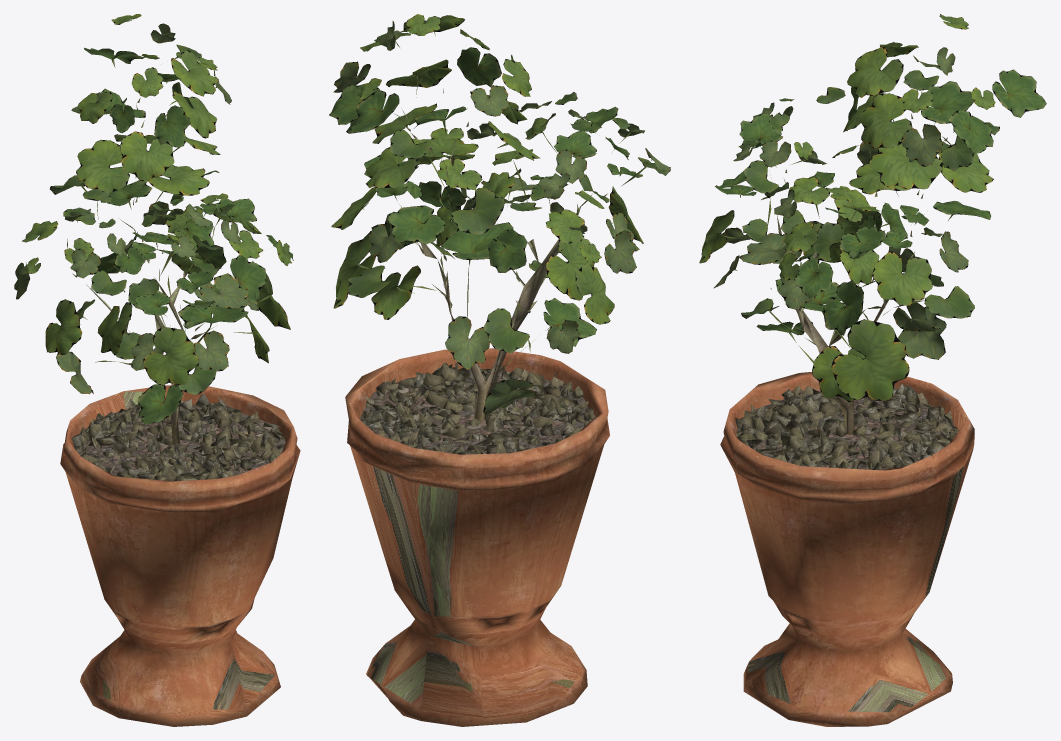
Rendered from potted_plant_01.glb.
3 renders of one model, left to right at view 1: azimuth 30°, elevation 25°; view 2: azimuth 150°, elevation 25°; view 3: azimuth 270°, elevation 25°, orthographic. The views are drawn at different scales.
Parts seen in each view (by area): view 1: potted_plant_01_stem, potted_plant_01_leaves; view 2: potted_plant_01_stem, potted_plant_01_leaves; view 3: potted_plant_01_stem, potted_plant_01_leaves.
Part boxes in pixels (x1,y1,x2,y2): potted_plant_01_stem: [60, 271, 300, 726]; potted_plant_01_leaves: [14, 14, 293, 424]; potted_plant_01_stem: [345, 139, 609, 726]; potted_plant_01_leaves: [329, 14, 670, 414]; potted_plant_01_stem: [720, 215, 974, 726]; potted_plant_01_leaves: [699, 14, 1046, 402].
Size of the model in its own units: 0.5866 by 1.34 by 0.6336.
Materials: 2 (2 with a texture image).
